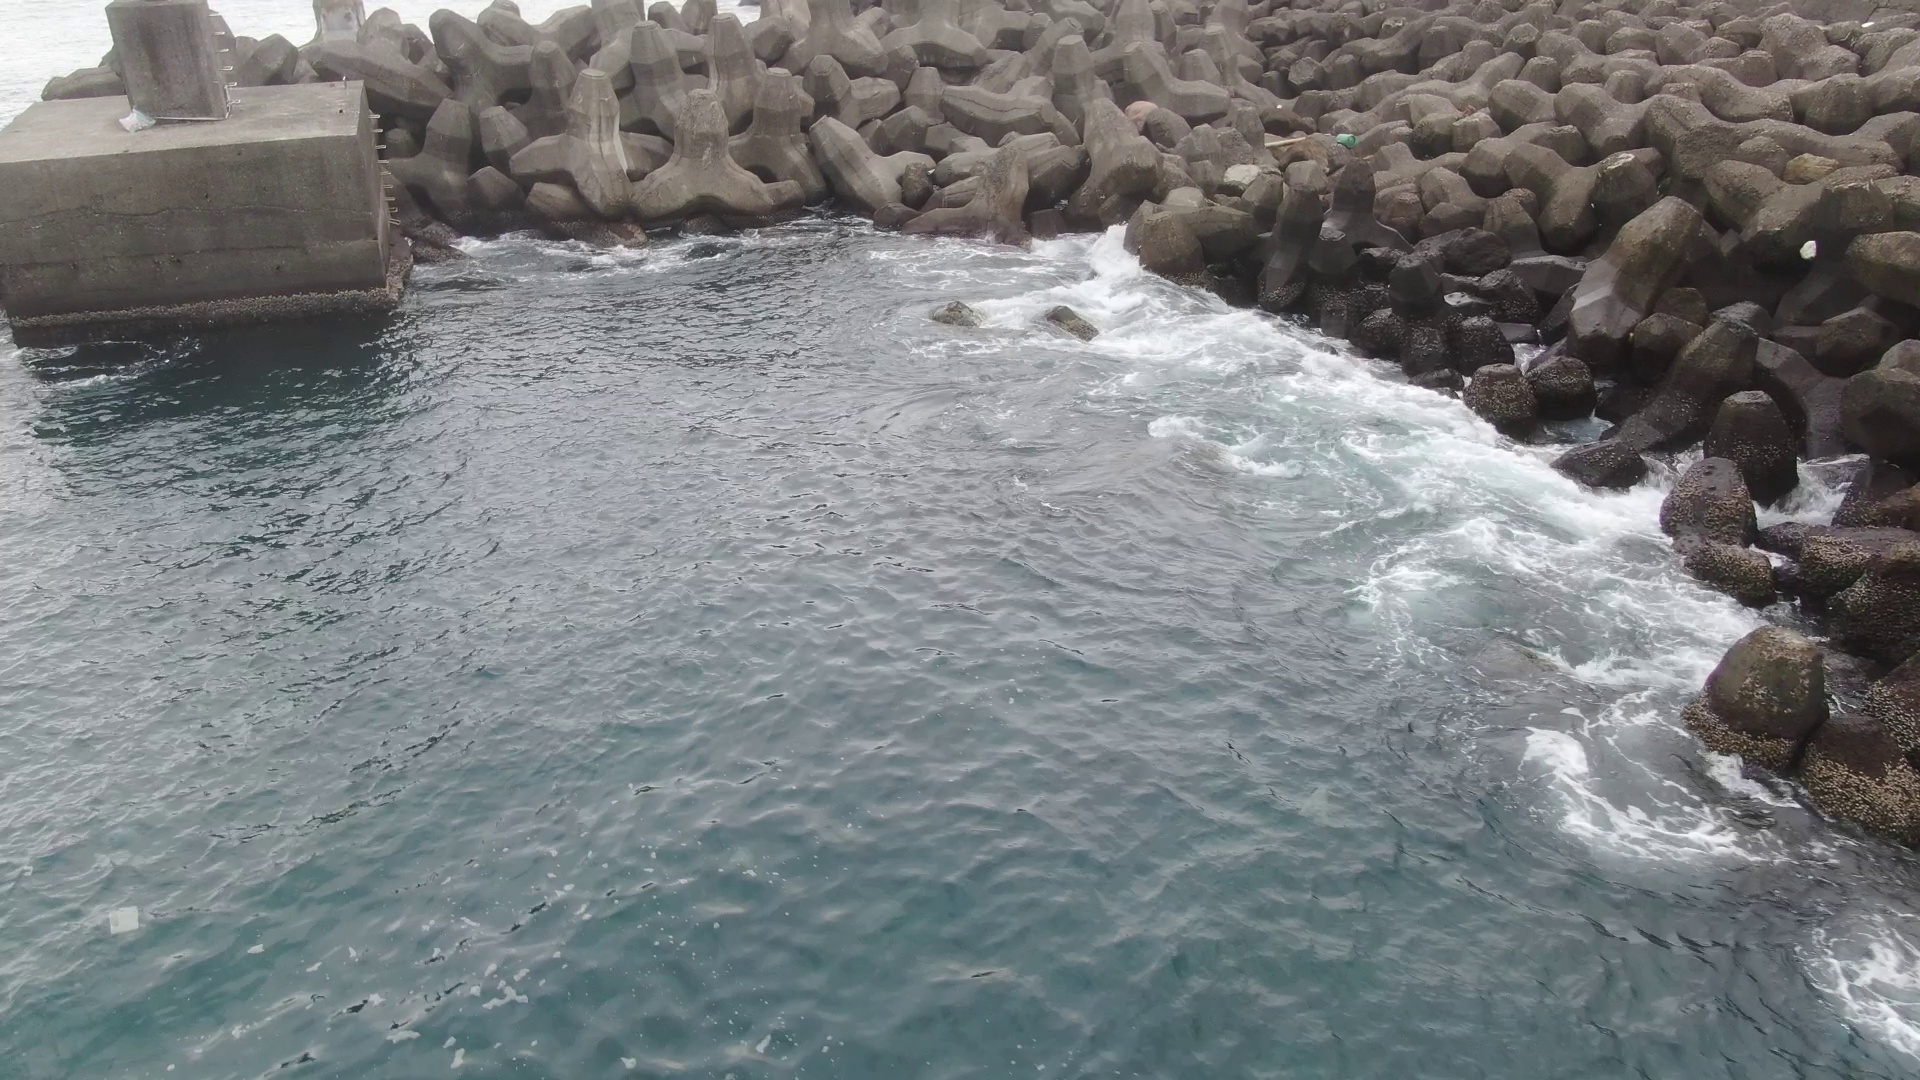garbage: (117, 109, 157, 135), (1336, 133, 1357, 150)
